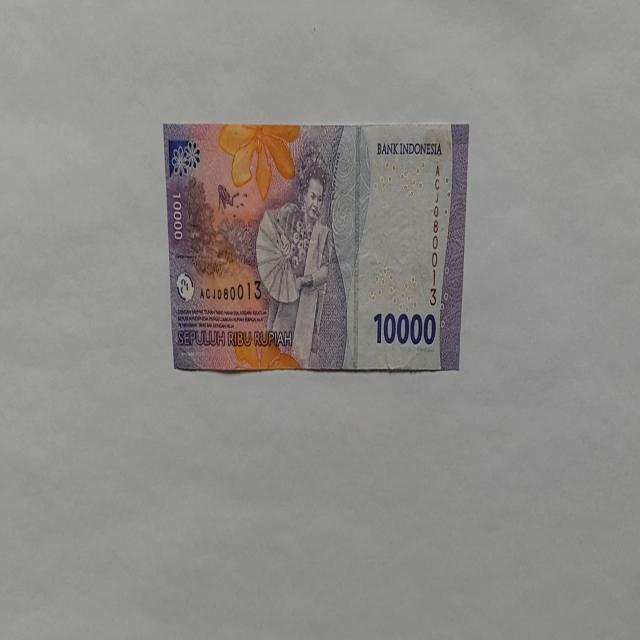sepuluh ribu rupiah: (162, 120, 468, 374), (372, 310, 436, 348)
